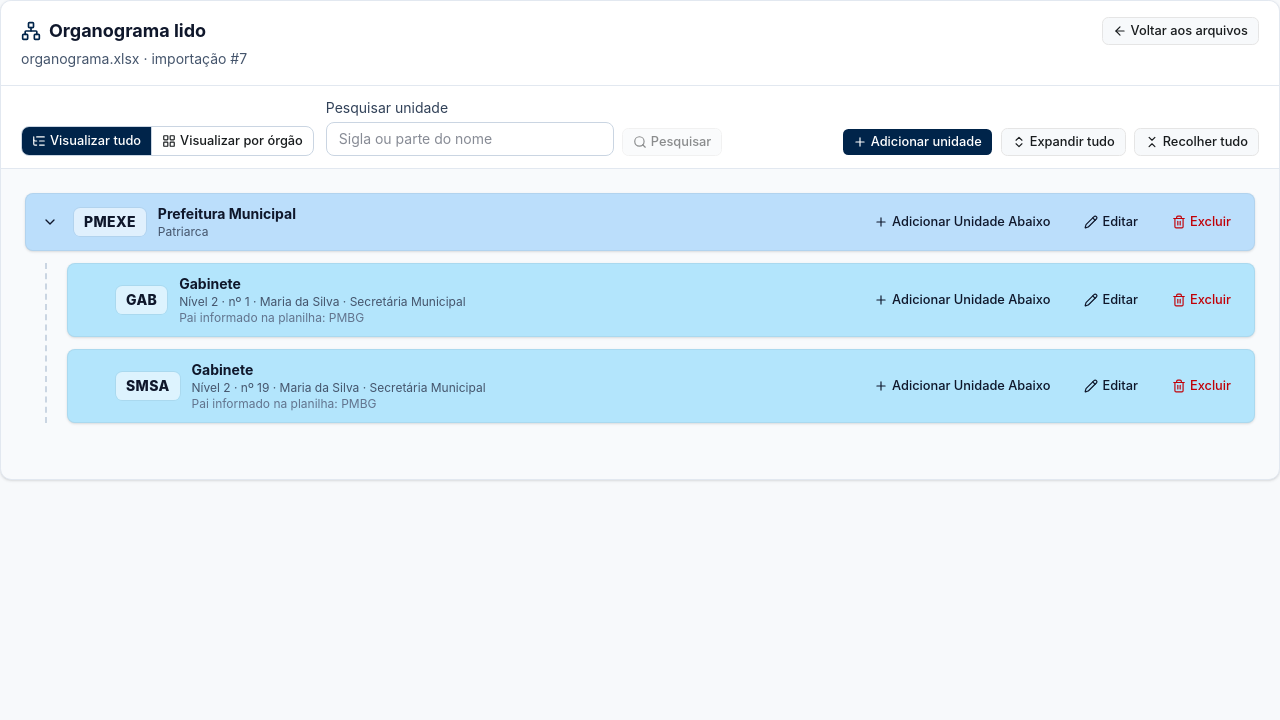
it: visualização hierárquica do organograma › seleciona a raiz estrutural pela sigla e continua a numeração de primeiro nível
Click the button "Adicionar unidade".
click(917, 142)  # box [842,128,993,156]
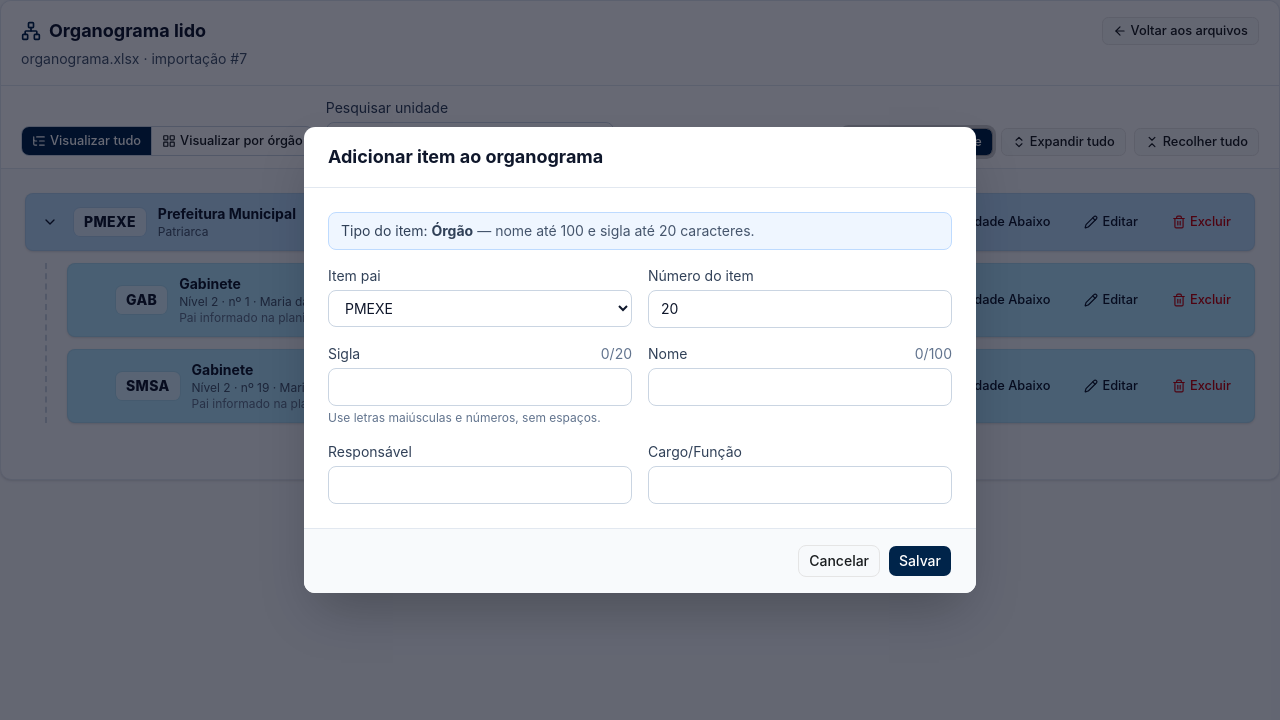
Expected: the dropdown labelled "Item pai" shows "PMEXE", [328,290,632,327]
Expected: the field labelled "Número do item" holds "20", [648,290,952,328]
